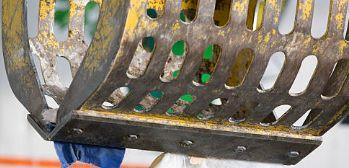metal: (1, 0, 349, 166)
